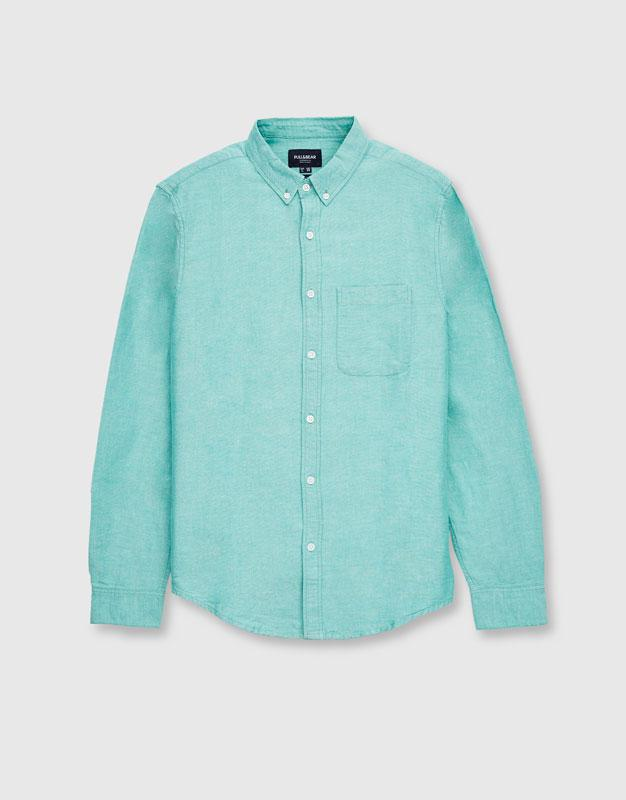teeshirt: (85, 114, 555, 664)
